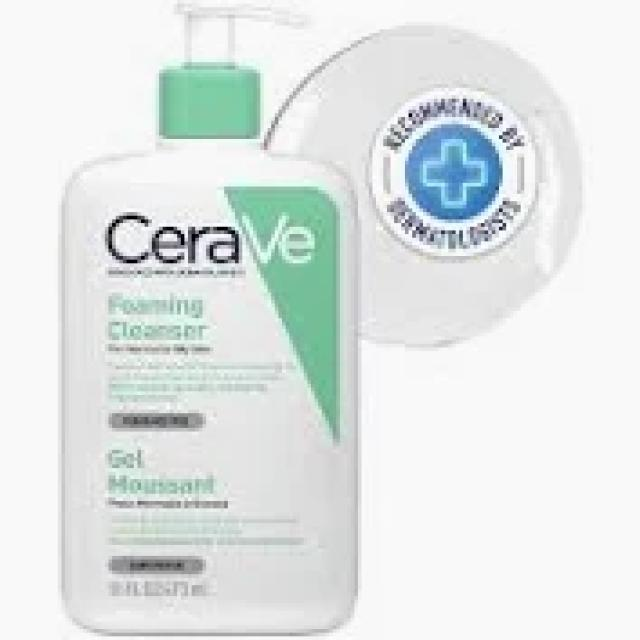Botella: (52, 0, 364, 640)
